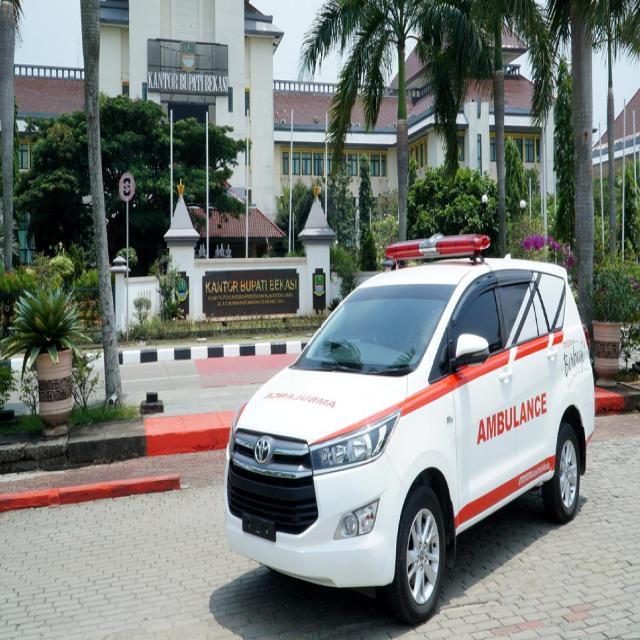ambulance: (224, 231, 595, 629)
